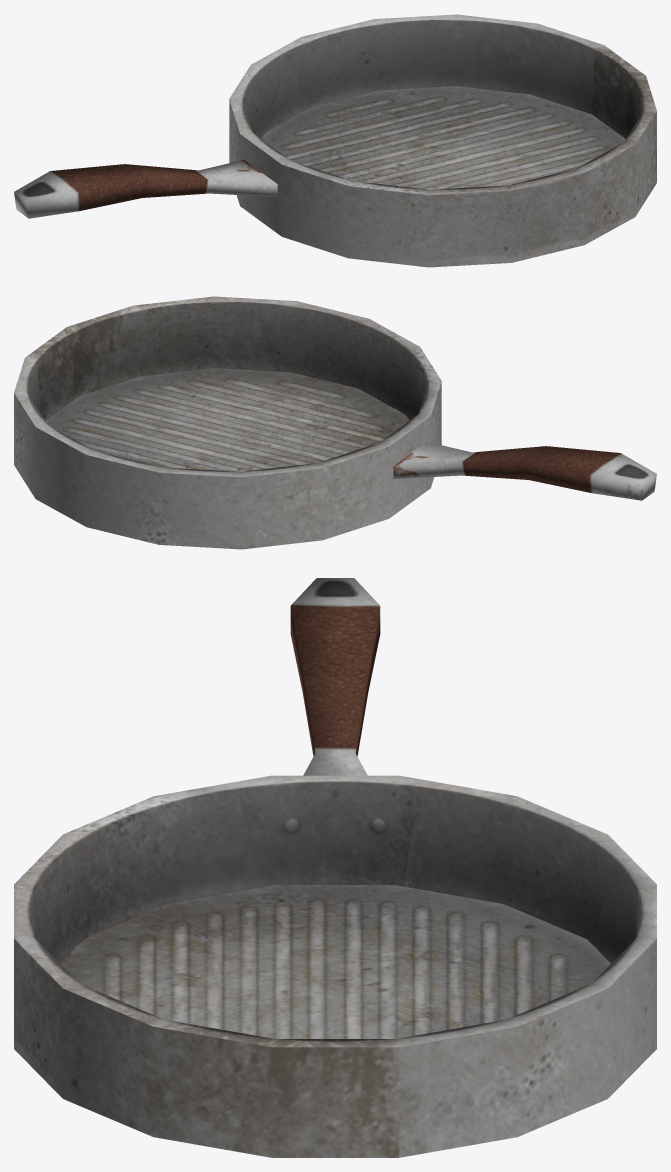
The model's file is pan_2.fbx.
3 views of the same model, one above another, from view 1: azimuth 30°, elevation 25°; view 2: azimuth 150°, elevation 25°; view 3: azimuth 270°, elevation 25° (orthographic). The views are drawn at different scales.
Visible parts, largest first — view 1: pan_2; view 2: pan_2; view 3: pan_2.
Boxes of the visible parts, box(x1,y1,x2,y2) form: pan_2: box(14, 14, 656, 267); pan_2: box(14, 296, 656, 549); pan_2: box(14, 578, 656, 1157).
Size of the model in its own units: 48.99 by 6.78 by 29.49.
1 material, 1 textured.
